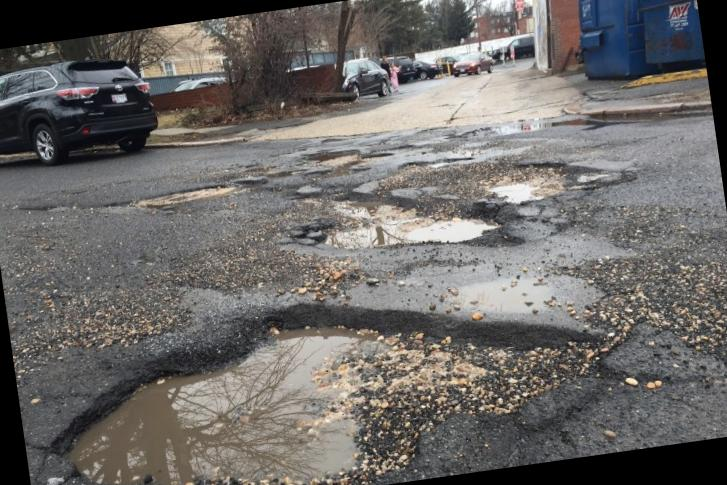pothole: (10, 249, 663, 485), (286, 141, 634, 281), (23, 158, 288, 258), (249, 132, 402, 192), (397, 130, 505, 192)
